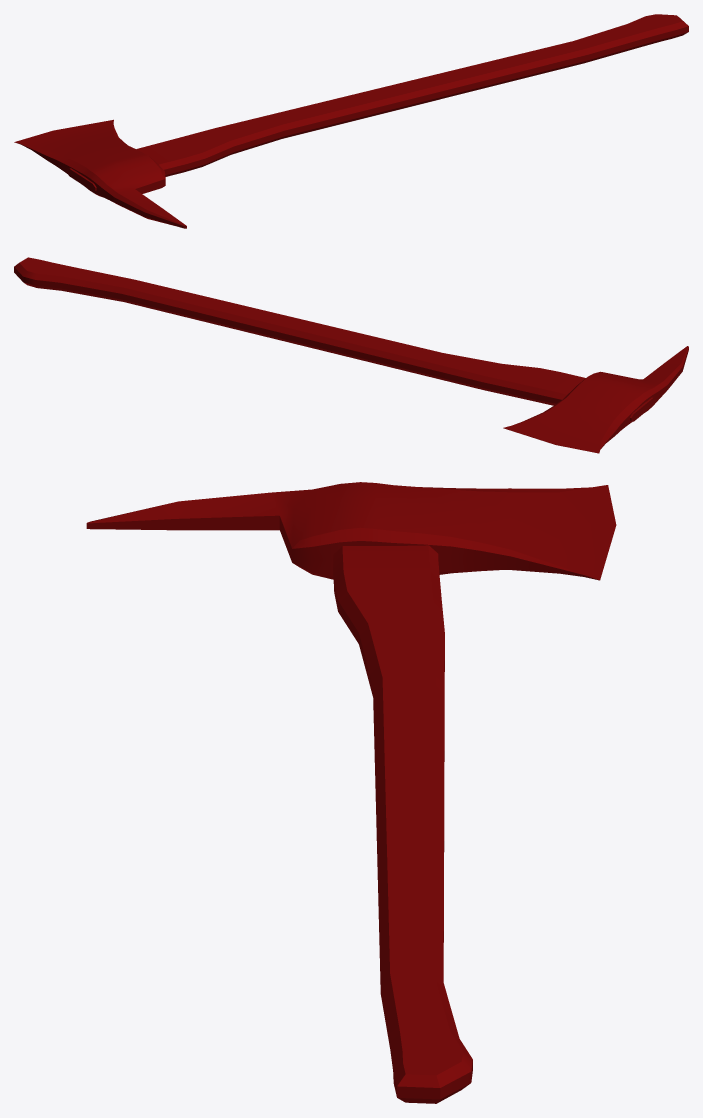
The model's file is Hacha.fbx.
The picture shows the model from 3 angles, top to bottom: view 1: azimuth 30°, elevation 25°; view 2: azimuth 150°, elevation 25°; view 3: azimuth 270°, elevation 25°; orthographic projection. The views are drawn at different scales.
Parts seen in each view (by area): view 1: Hacha; view 2: Hacha; view 3: Hacha.
Boxes of the visible parts, <box> form: Hacha: <box>14,14,688,228</box>; Hacha: <box>14,257,688,453</box>; Hacha: <box>86,482,616,1103</box>.
Size of the model in its own units: 0.8432 by 0.0359 by 0.31.
